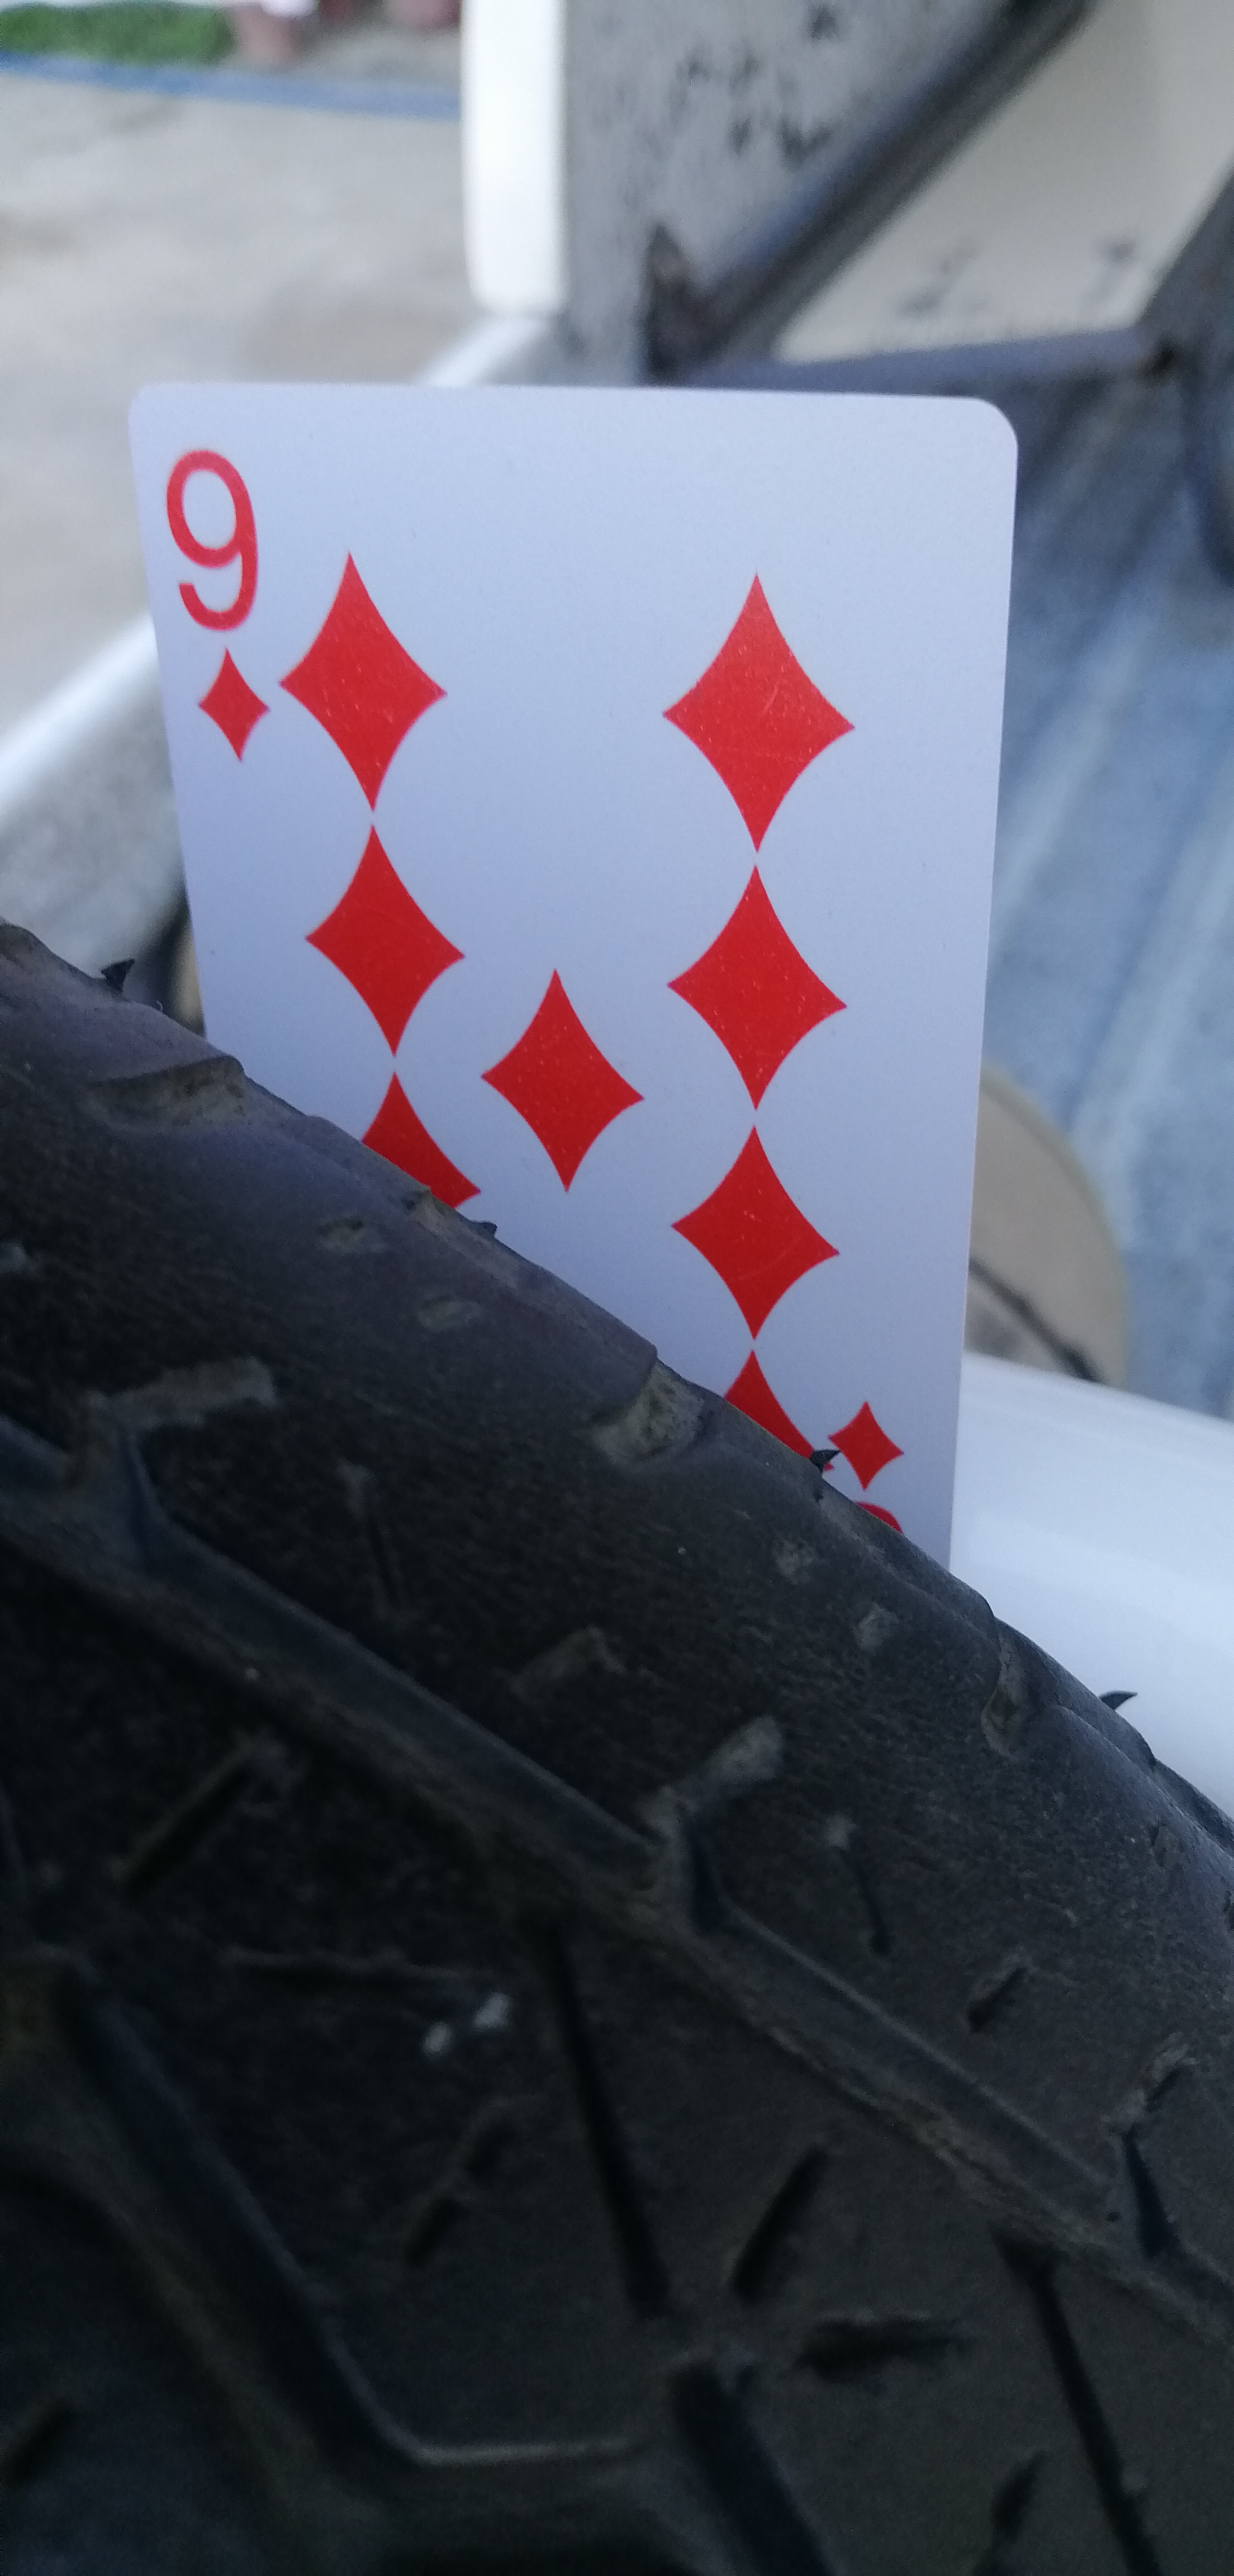nine: (115, 352, 979, 1595)
